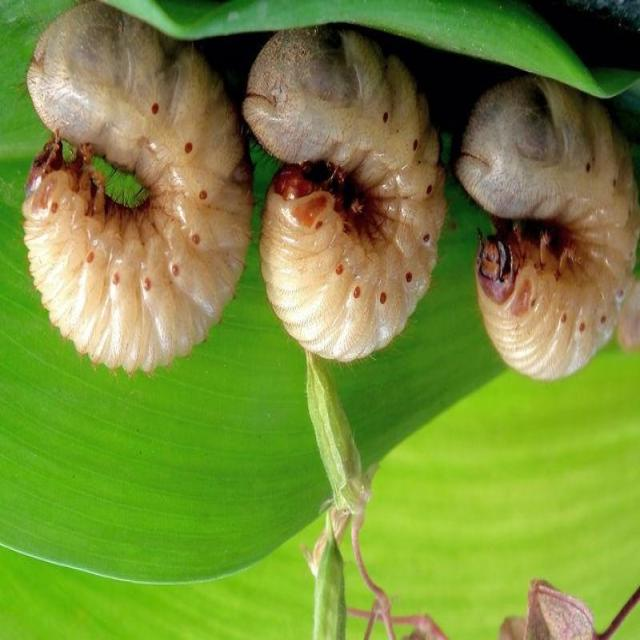grub: (12, 8, 256, 371), (235, 28, 439, 377), (452, 73, 636, 379)
